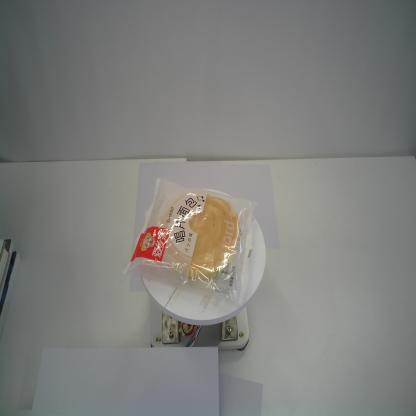Dessert: (121, 175, 261, 309)
